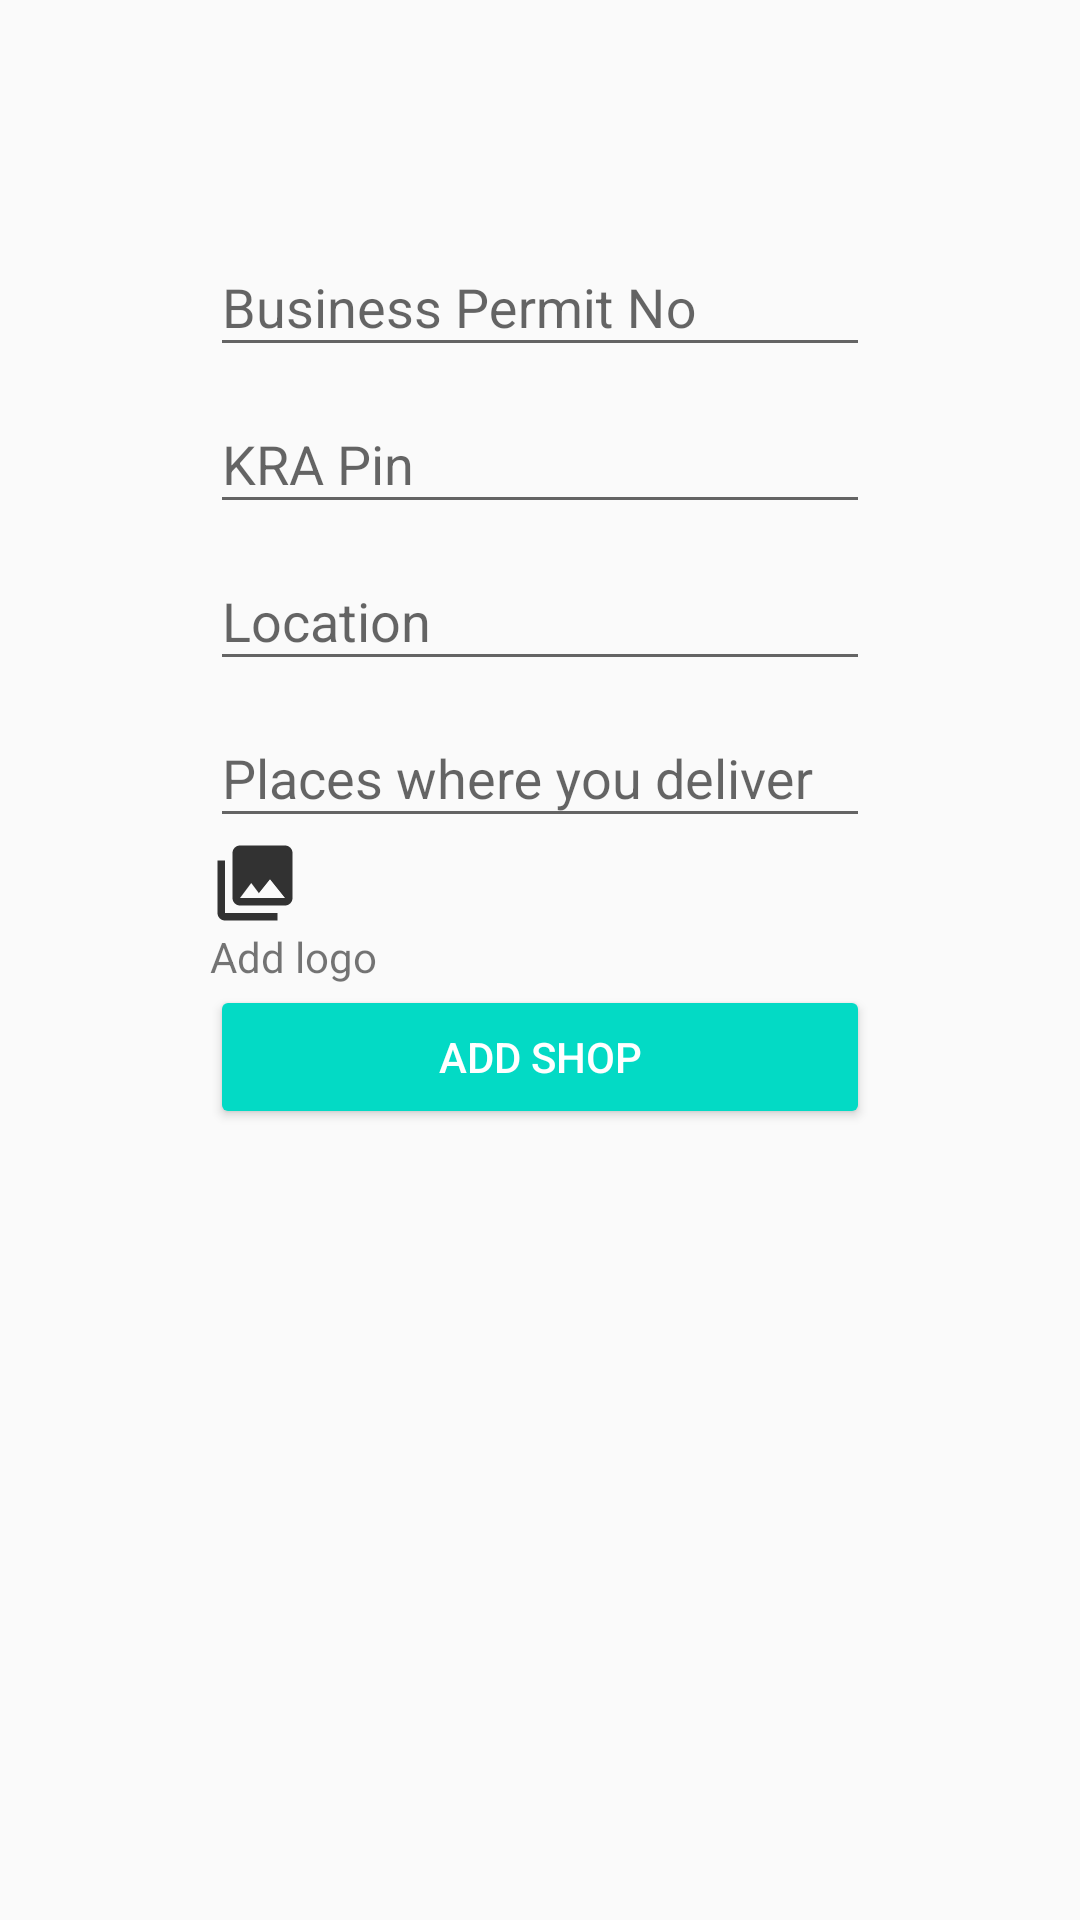

Icons on this 1080 × 1920 Android screen, each with the point to tap as (x=x, y=y):
photo: (x=255, y=883)
